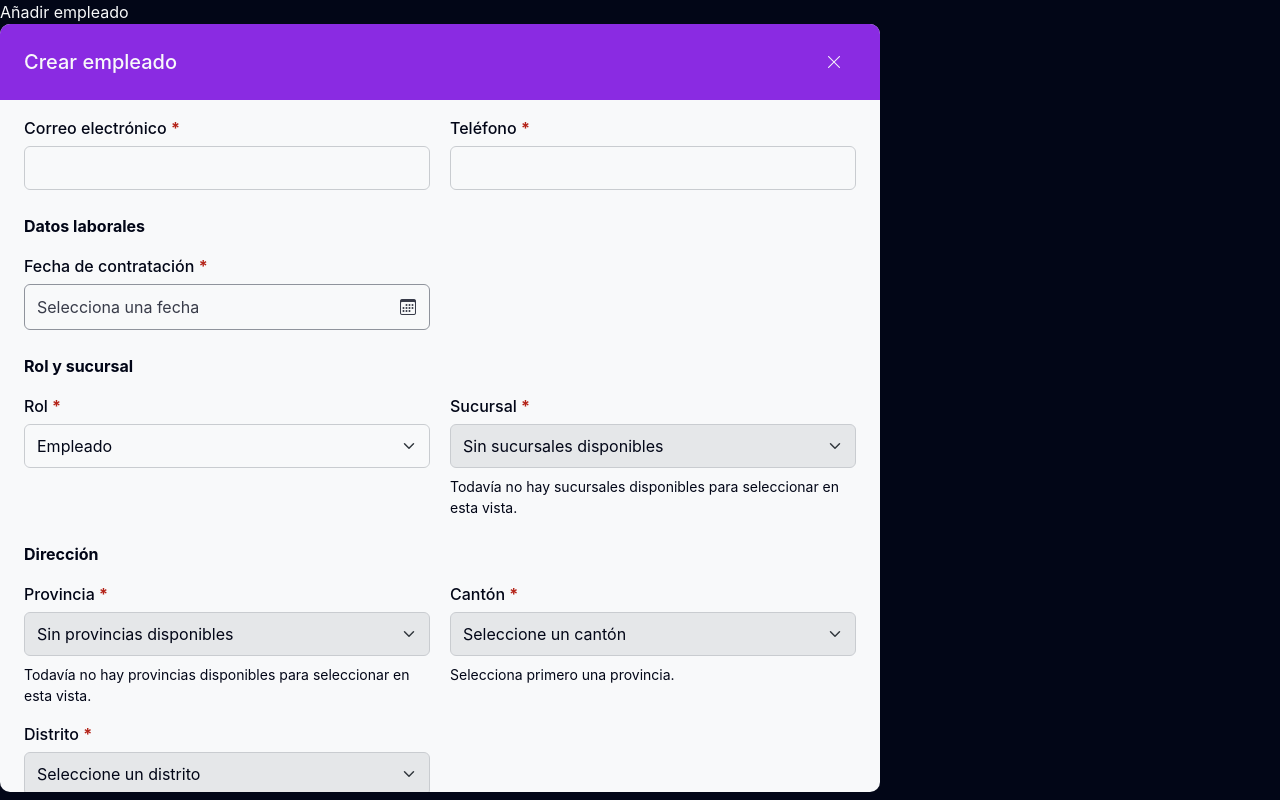
CreateUserDialog › allows employee and administrator roles with a corresponding dialog title
(page scrolled)
Select "Administrador" in the dropdown named "role": (227, 446) [24,424,430,468]
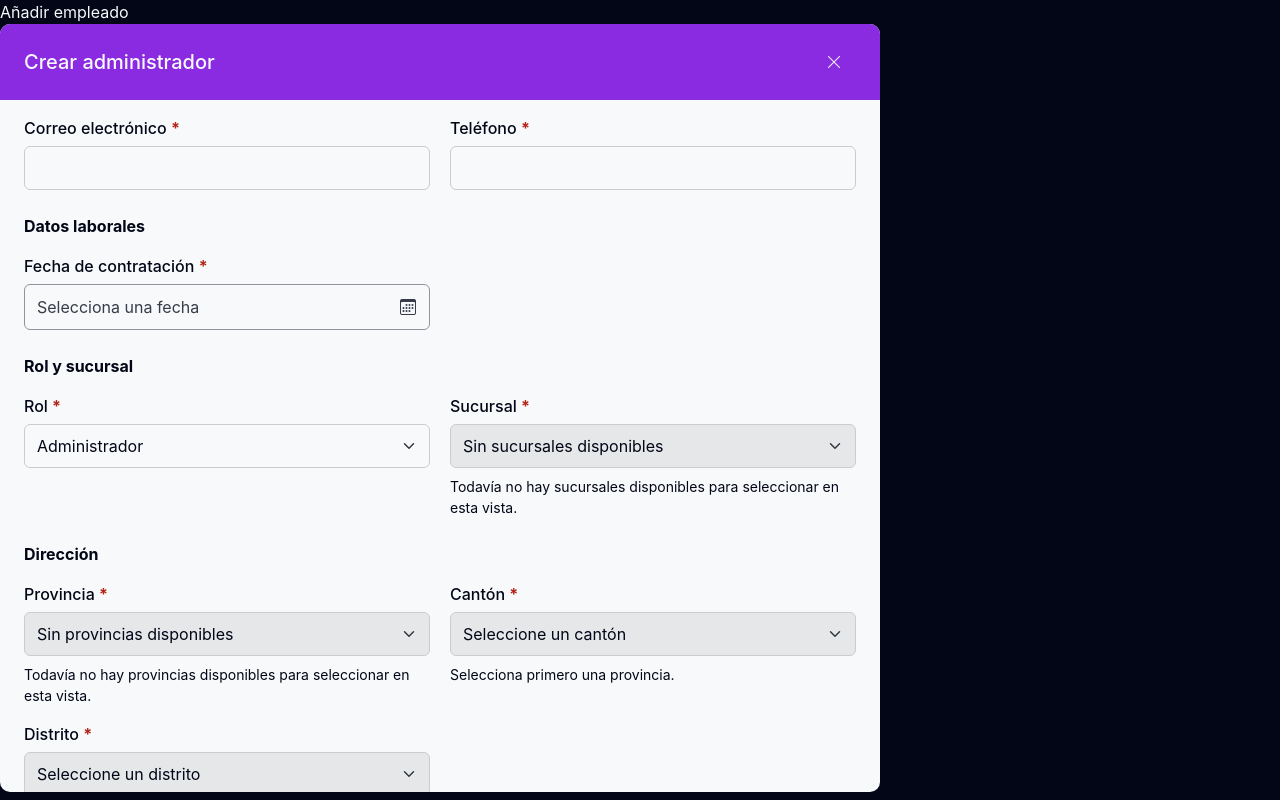
Expected: the heading "Crear administrador" is shown, [24,50,215,74]
Select "Empleado" in the dropdown named "role": (227, 446) [24,424,430,468]
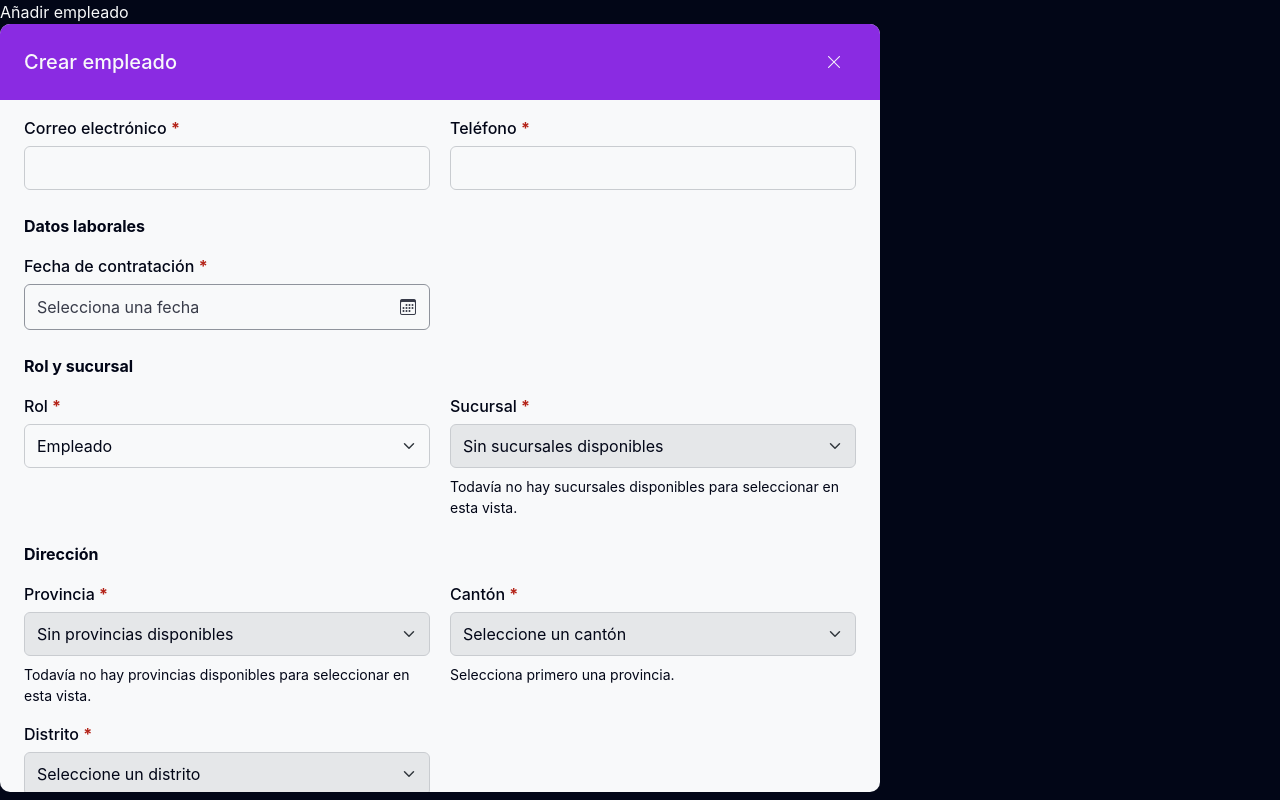
Expected: the heading "Crear empleado" is shown, [24,50,177,74]
